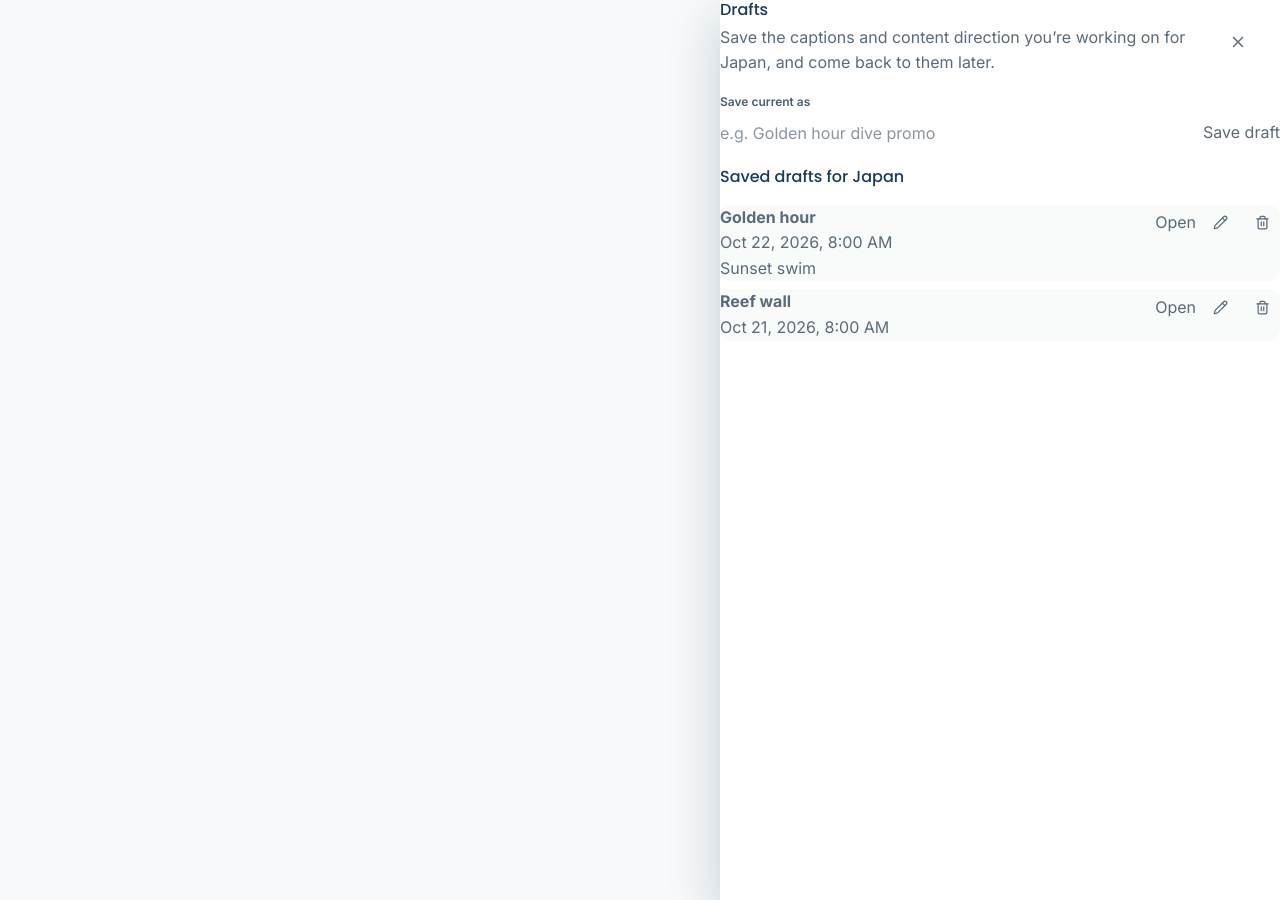
Test case: DraftsPanel — the draft the work is, and saving a copy › says so, and keeps the name, when identical work is already saved
Type "Another name" into the field labelled "Save current as". click: x=957, y=133
box: [720,116,1193,150]
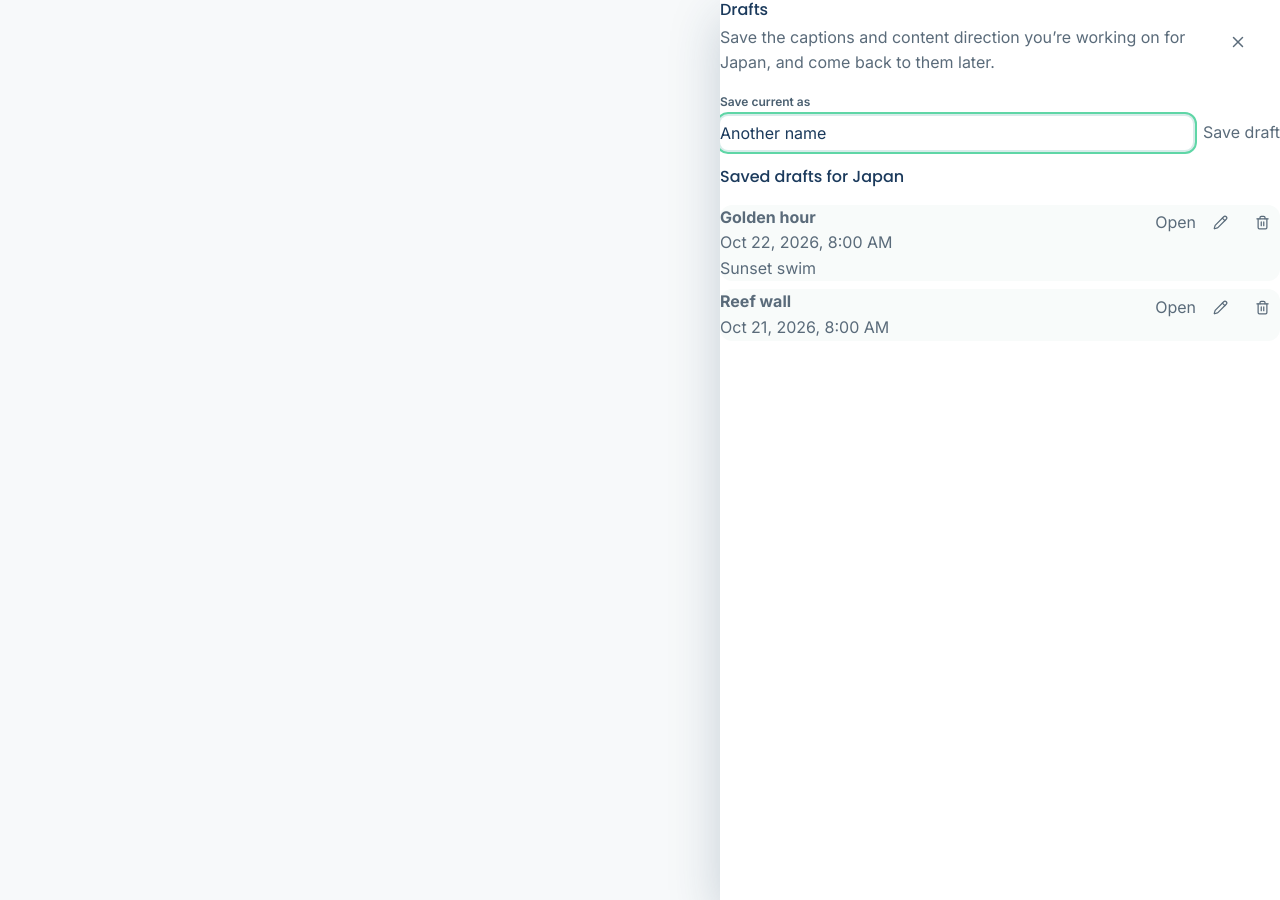
Click the button "Save draft". click: x=1242, y=133
box: [1203,116,1279,150]
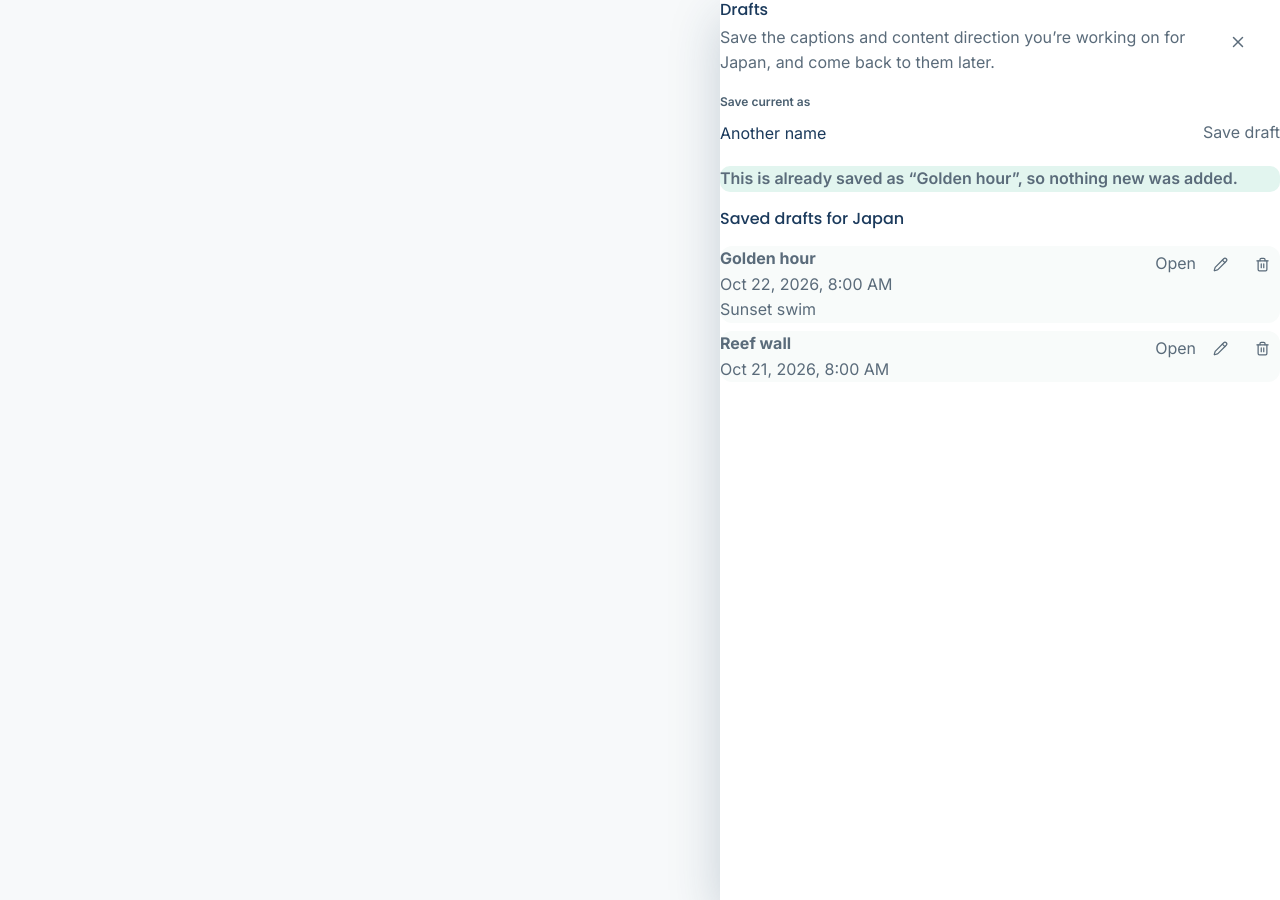
Result: the text "This is already saved as “Golden hour”, so nothing new was added." is shown at [720,166,1279,192]
